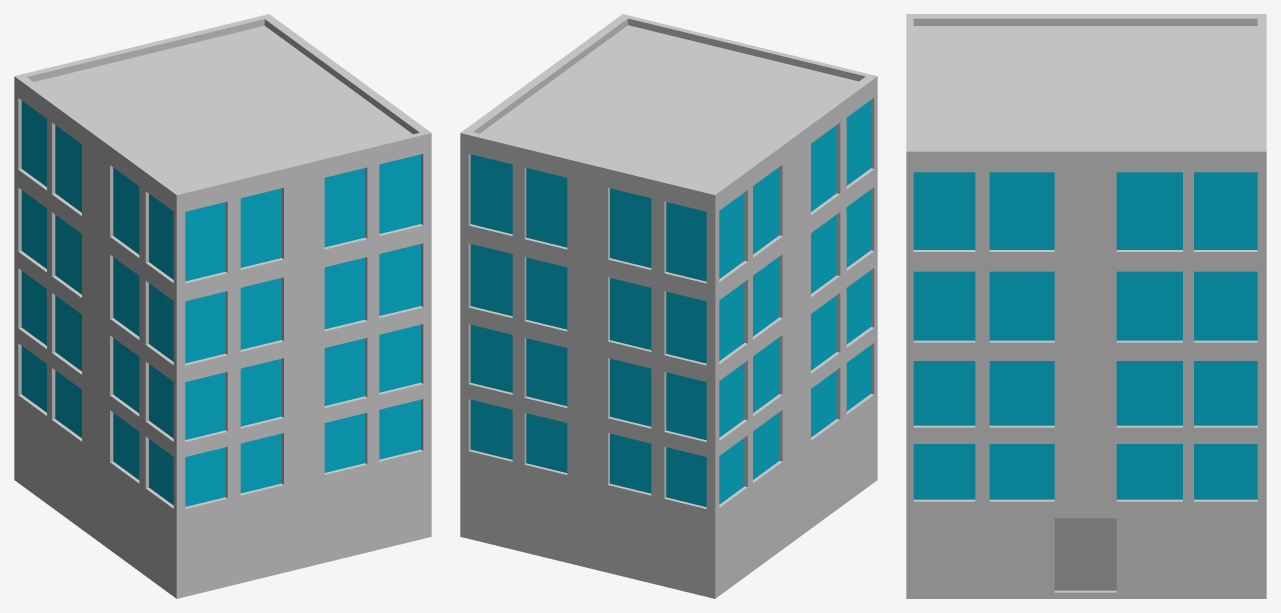
File: building.fbx
3 renders of one model, left to right at view 1: azimuth 30°, elevation 25°; view 2: azimuth 150°, elevation 25°; view 3: azimuth 270°, elevation 25°, orthographic. The views are drawn at different scales.
Visible parts, largest first — view 1: Cube; view 2: Cube; view 3: Cube.
Boxes of the visible parts, left/top/right/bottom form: Cube: left=14, top=14, right=431, bottom=598; Cube: left=460, top=14, right=877, bottom=598; Cube: left=906, top=14, right=1266, bottom=598.
Size of the model in its own units: 2311 by 3497 by 2553.
